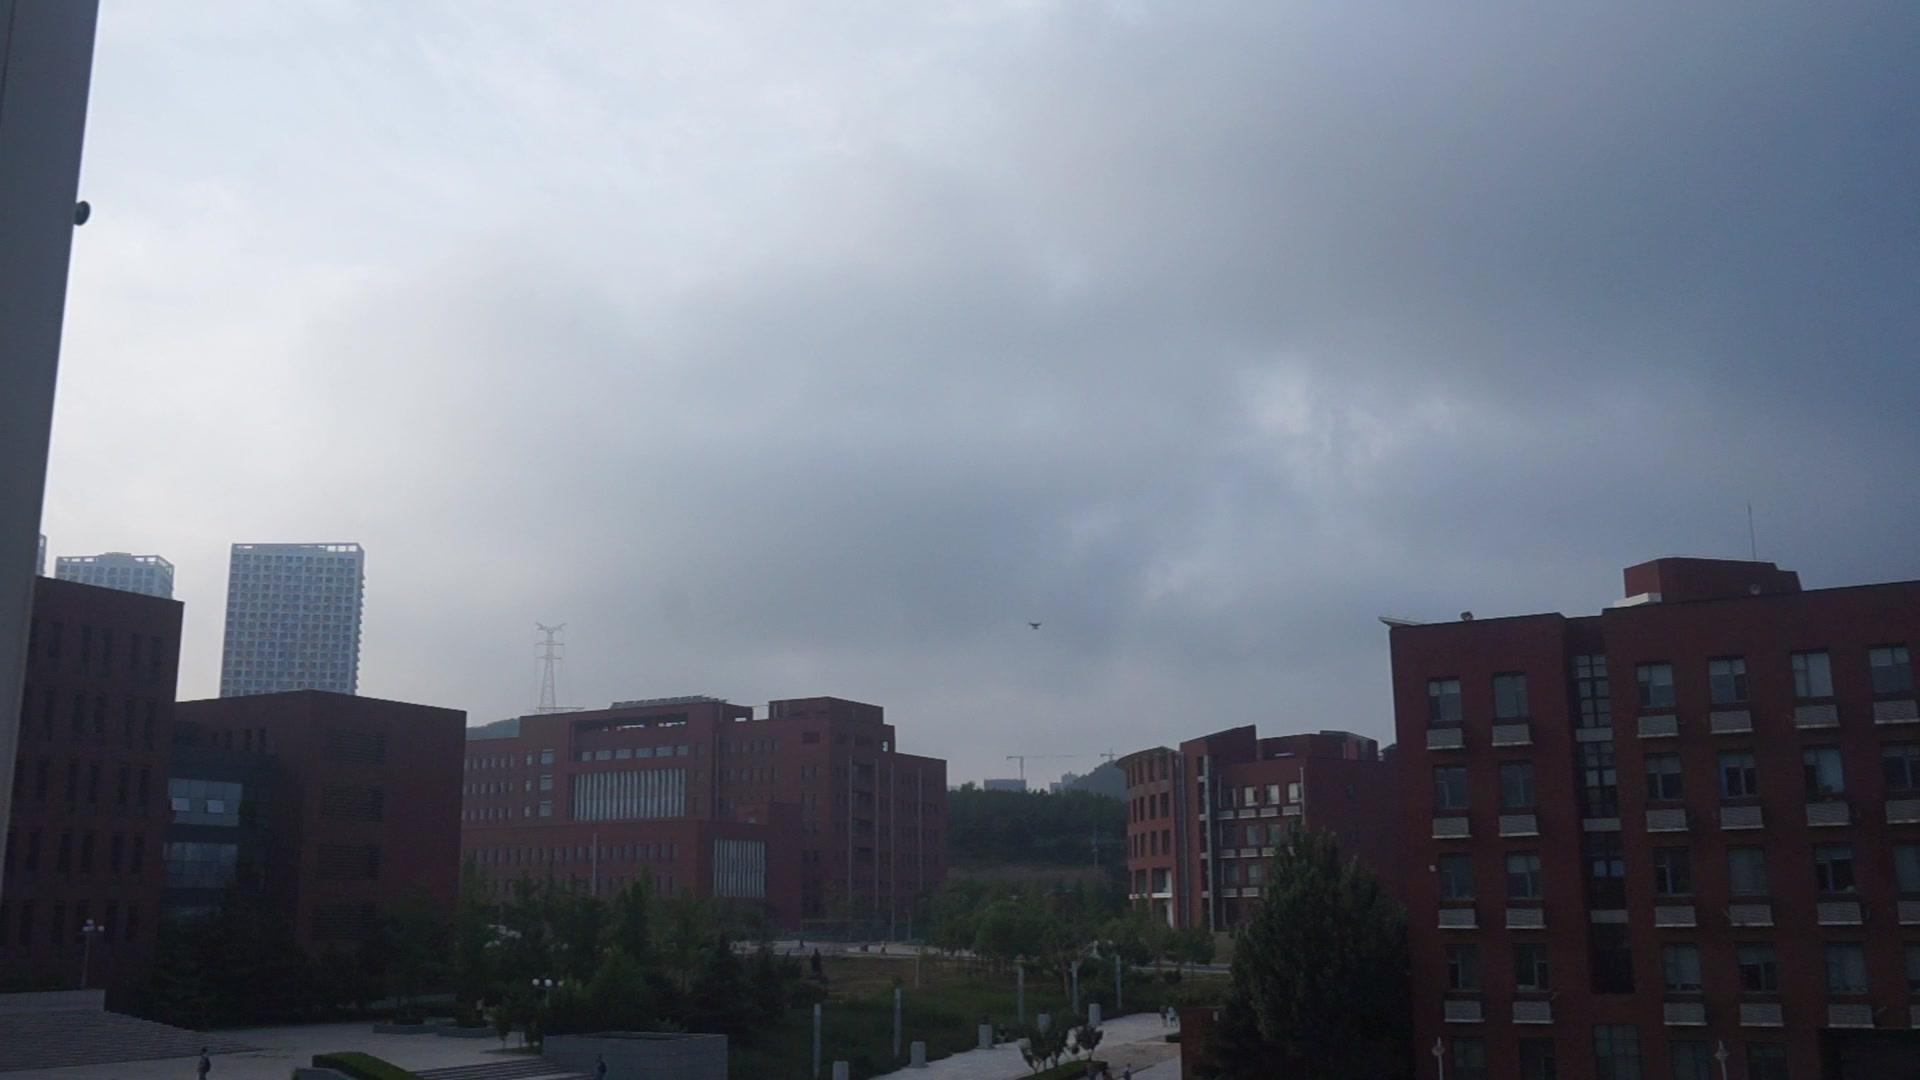UAV: (1029, 622, 1044, 632)
